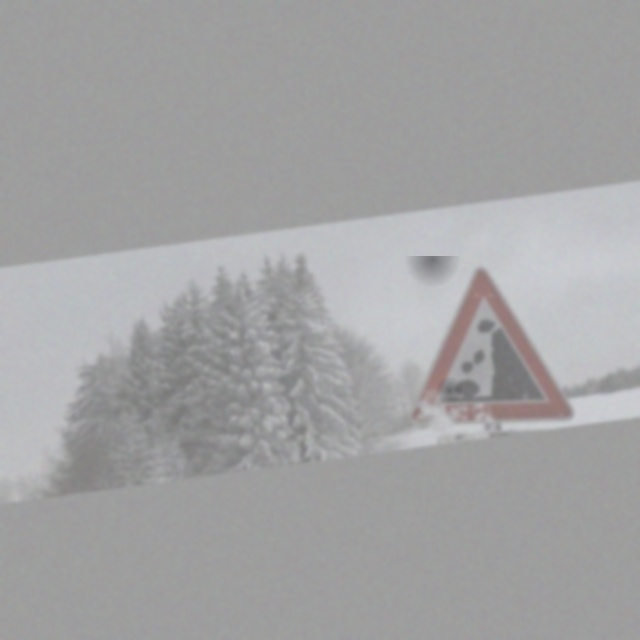Falling_Rocks: (400, 256, 573, 440)
